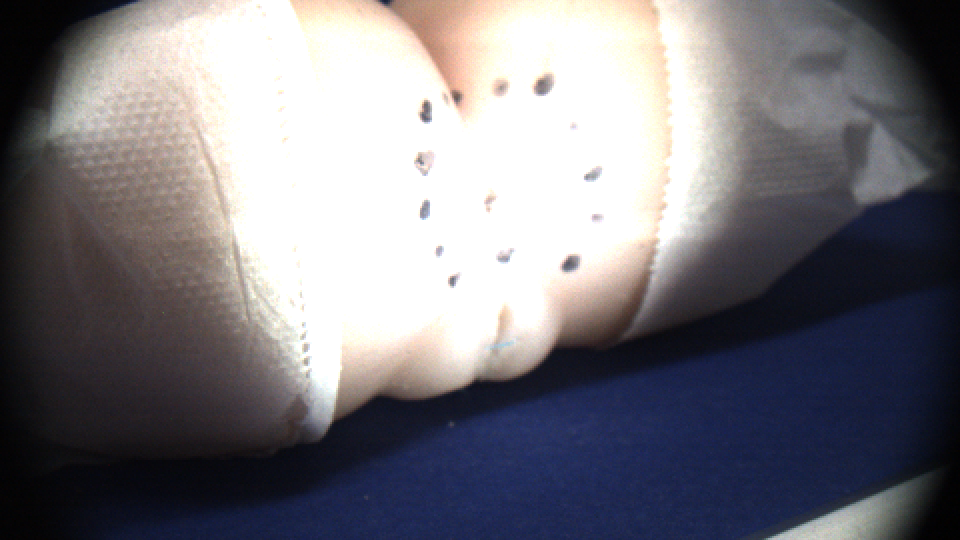asarp_marker: (531, 66, 561, 99), (485, 74, 515, 100), (411, 150, 438, 178), (492, 243, 518, 270), (558, 252, 586, 277), (580, 165, 610, 185), (414, 197, 437, 219), (415, 96, 434, 121), (449, 82, 466, 109), (563, 119, 593, 134), (584, 210, 608, 227), (436, 85, 453, 109), (444, 271, 466, 289), (430, 243, 449, 261)
